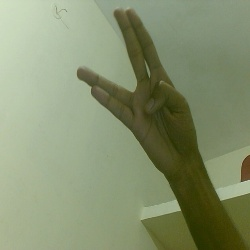hand: (63, 2, 202, 173)
